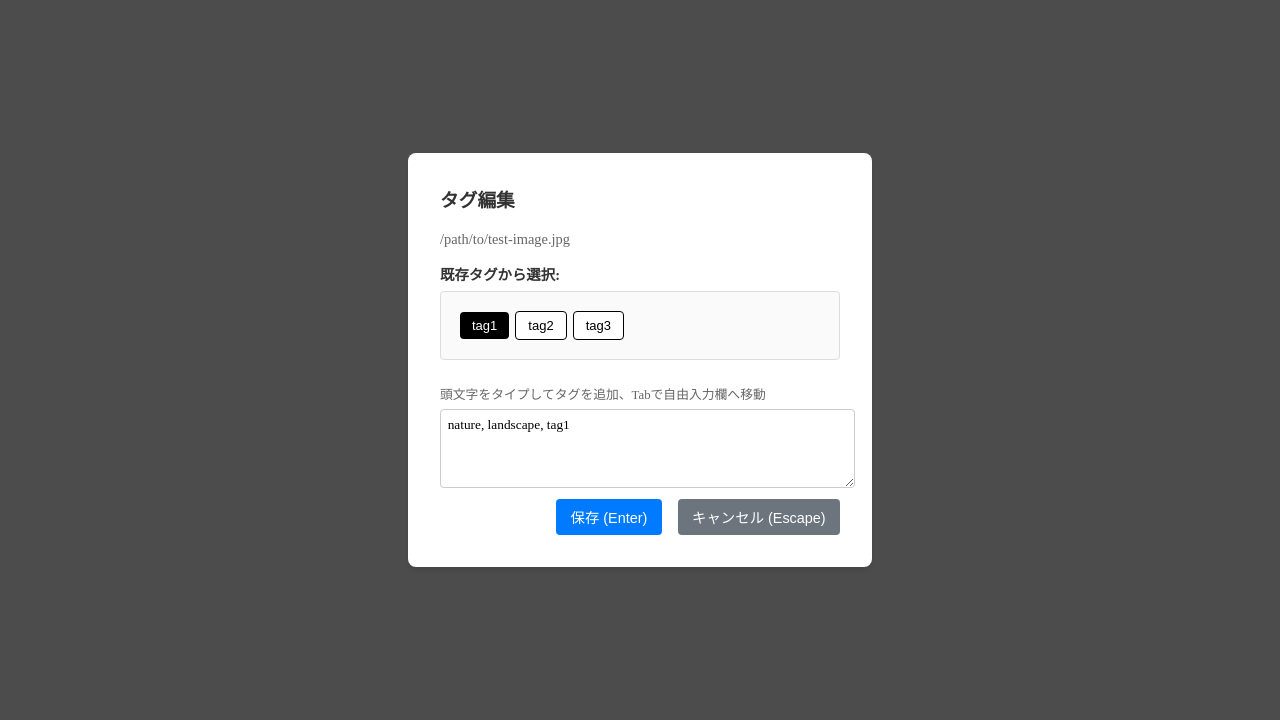
Test: TagEditor › easy input functionality › should remove tag when selected tag button is clicked
Step 1. Click the button "tag1" → click(485, 325), box x1=460 y1=312 x2=509 y2=339
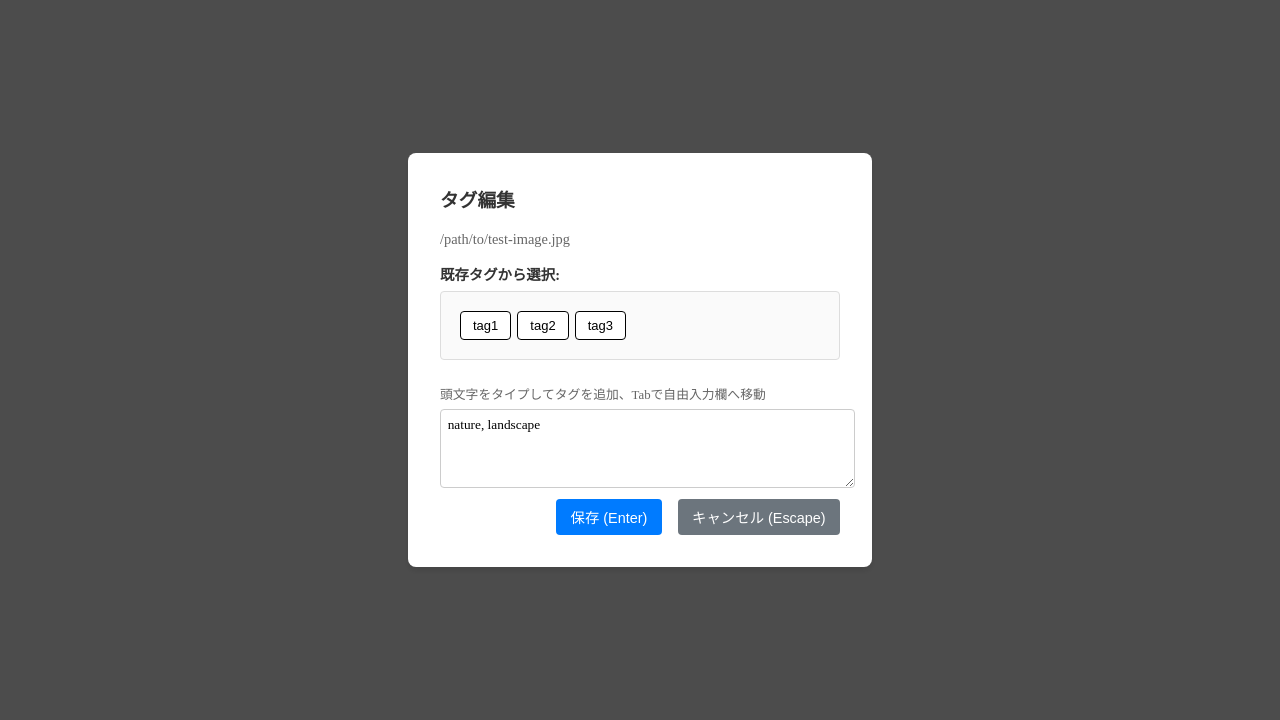
Expected: the text box holds "nature, landscape", x1=440 y1=409 x2=855 y2=488
